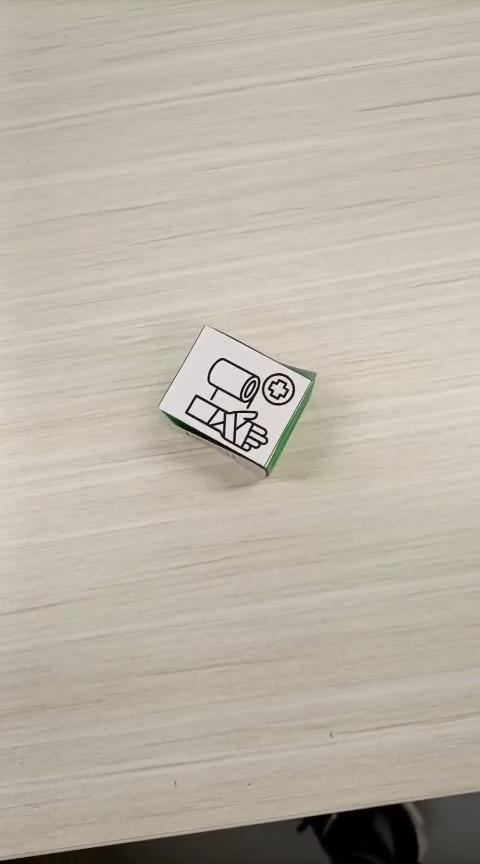Bandages: (157, 323, 317, 477)
